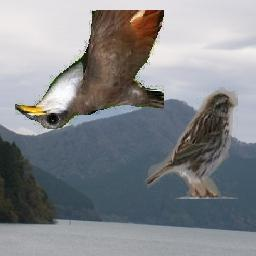Cuckoo: (16, 11, 165, 130)
Sparrow: (144, 87, 239, 199)
